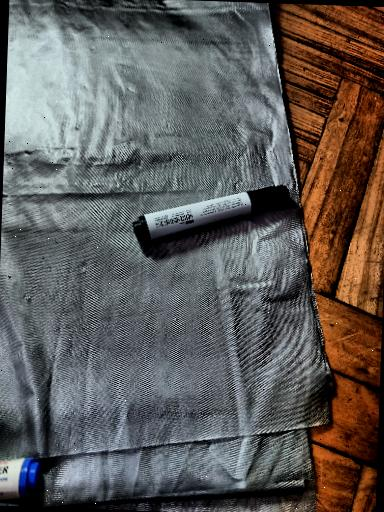marcador negro: (133, 185, 289, 242)
